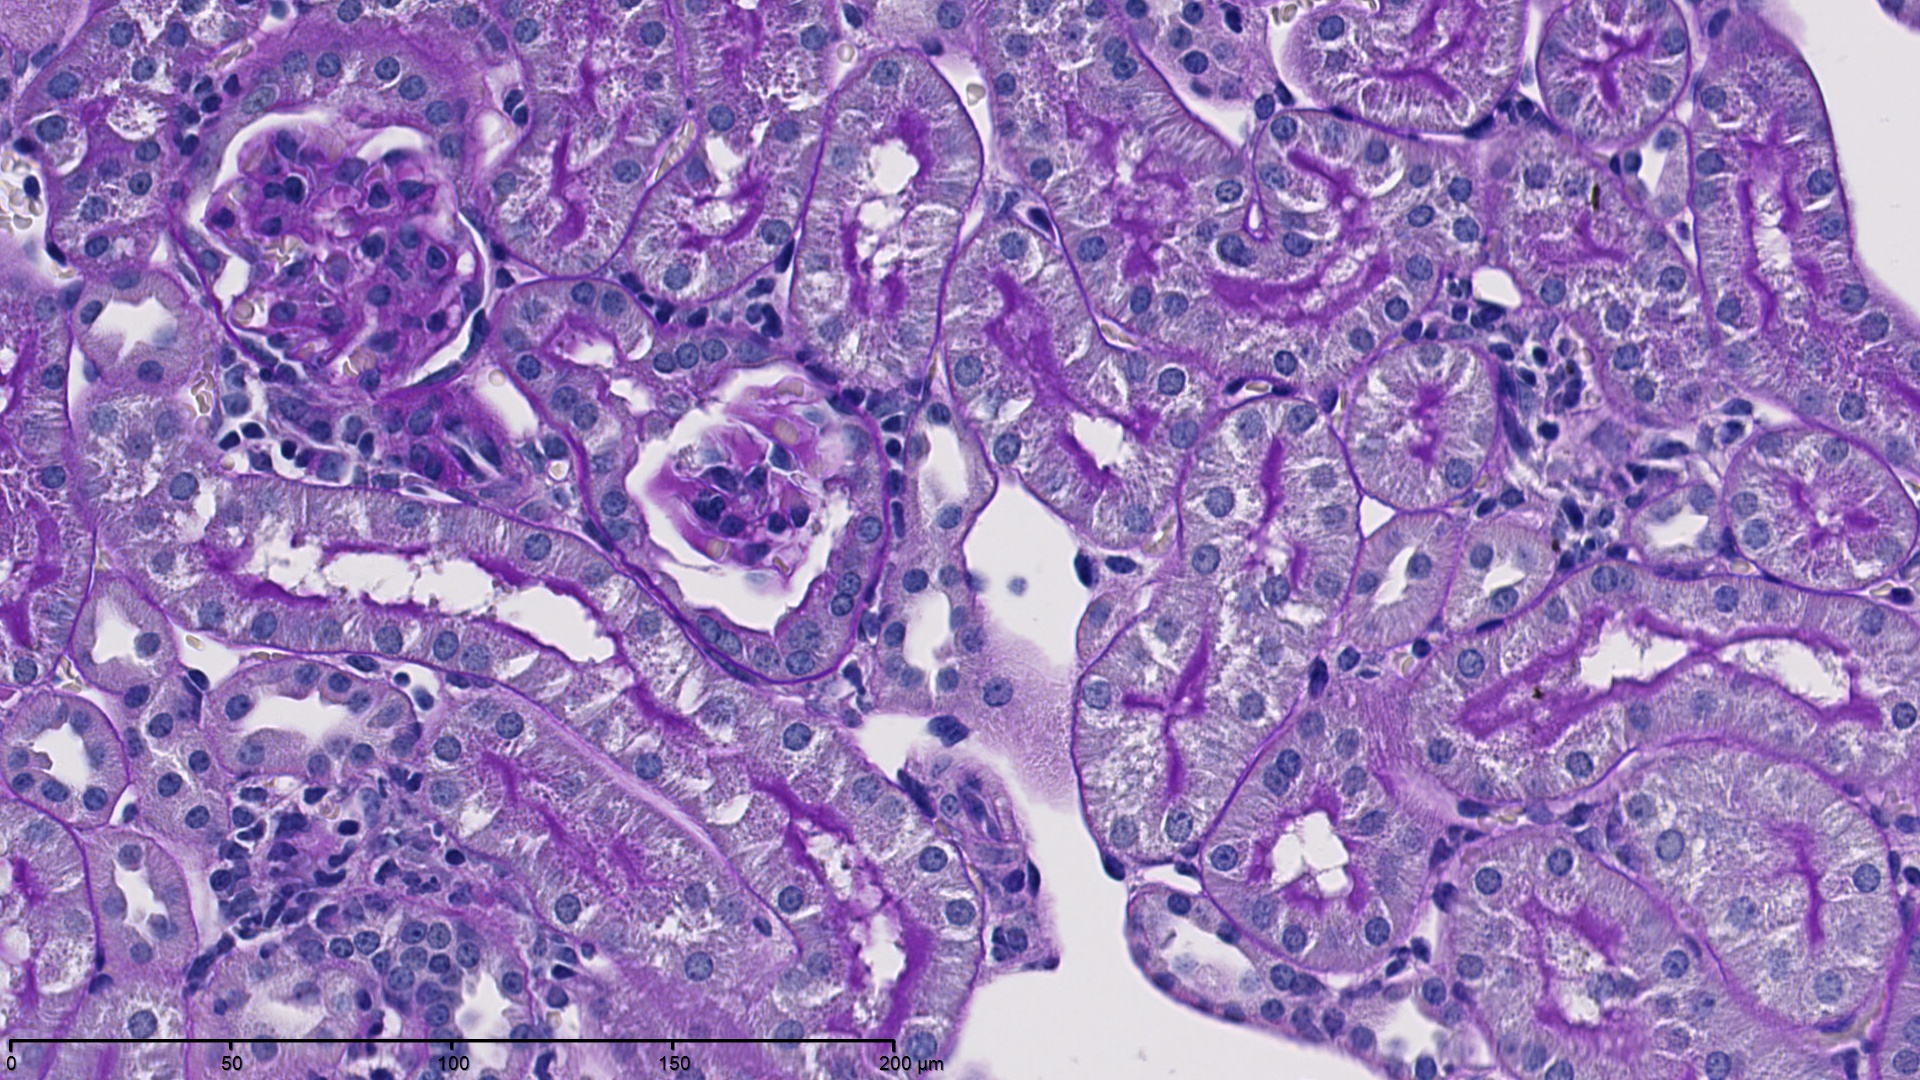Glomeruli: (191, 105, 500, 418), (202, 769, 483, 997), (642, 353, 893, 599)
